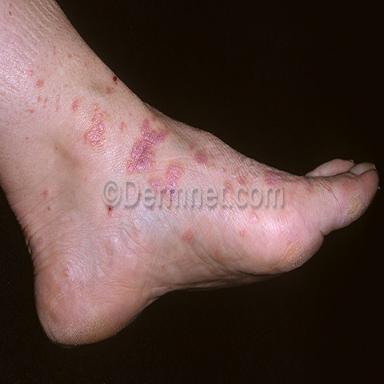lichen: (127, 118, 167, 172), (84, 105, 105, 147), (165, 165, 184, 186), (265, 169, 280, 186), (149, 177, 163, 191), (194, 151, 208, 165), (72, 100, 79, 110)
